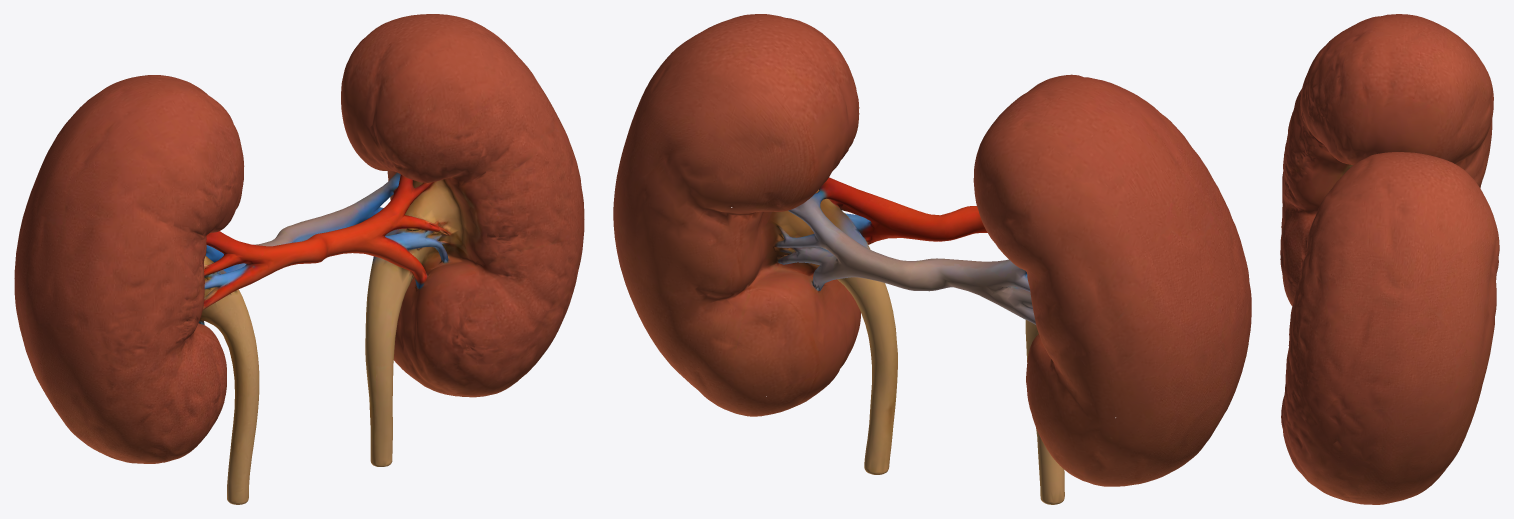
Rendered from kidneys.glb.
3 views of the same model, side by side, from view 1: azimuth 30°, elevation 25°; view 2: azimuth 150°, elevation 25°; view 3: azimuth 270°, elevation 25° (orthographic). The views are drawn at different scales.
Visible parts, largest first — view 1: tripo_node_e5de9656-5b36-4996-8f10-3690a202b494; view 2: tripo_node_e5de9656-5b36-4996-8f10-3690a202b494; view 3: tripo_node_e5de9656-5b36-4996-8f10-3690a202b494.
Boxes of the visible parts, x1,y1,x2,y2 form: tripo_node_e5de9656-5b36-4996-8f10-3690a202b494: (14, 14, 584, 504); tripo_node_e5de9656-5b36-4996-8f10-3690a202b494: (613, 14, 1251, 504); tripo_node_e5de9656-5b36-4996-8f10-3690a202b494: (1280, 14, 1499, 504).
Size of the model in its own units: 0.9793 by 0.7198 by 0.3716.
Materials: 1 (1 with a texture image).
